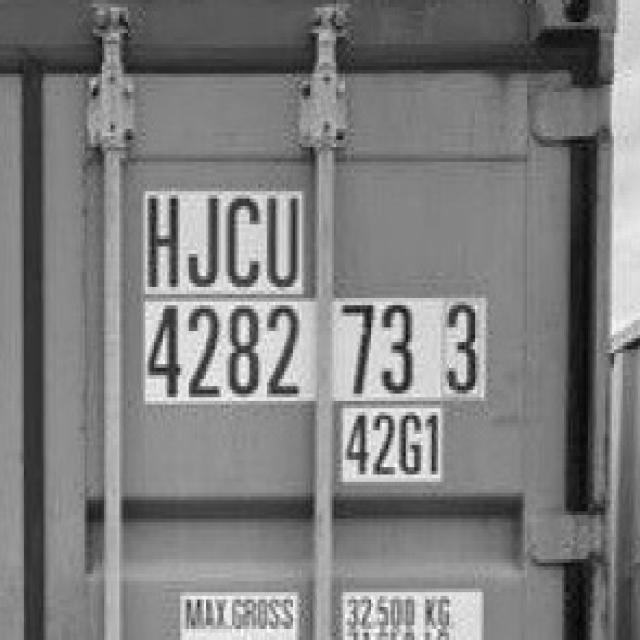dv: (440, 297, 484, 391)
owner: (146, 185, 302, 301)
serial: (144, 294, 414, 398)
size: (341, 403, 440, 480)
